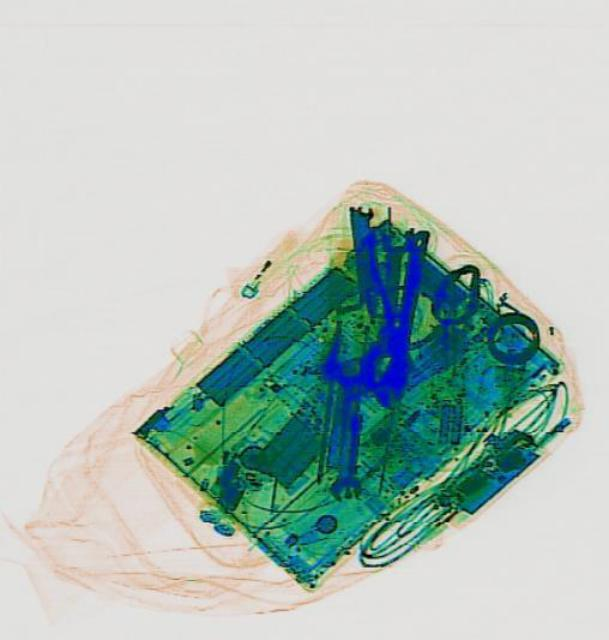Wrench: (328, 355, 370, 499)
